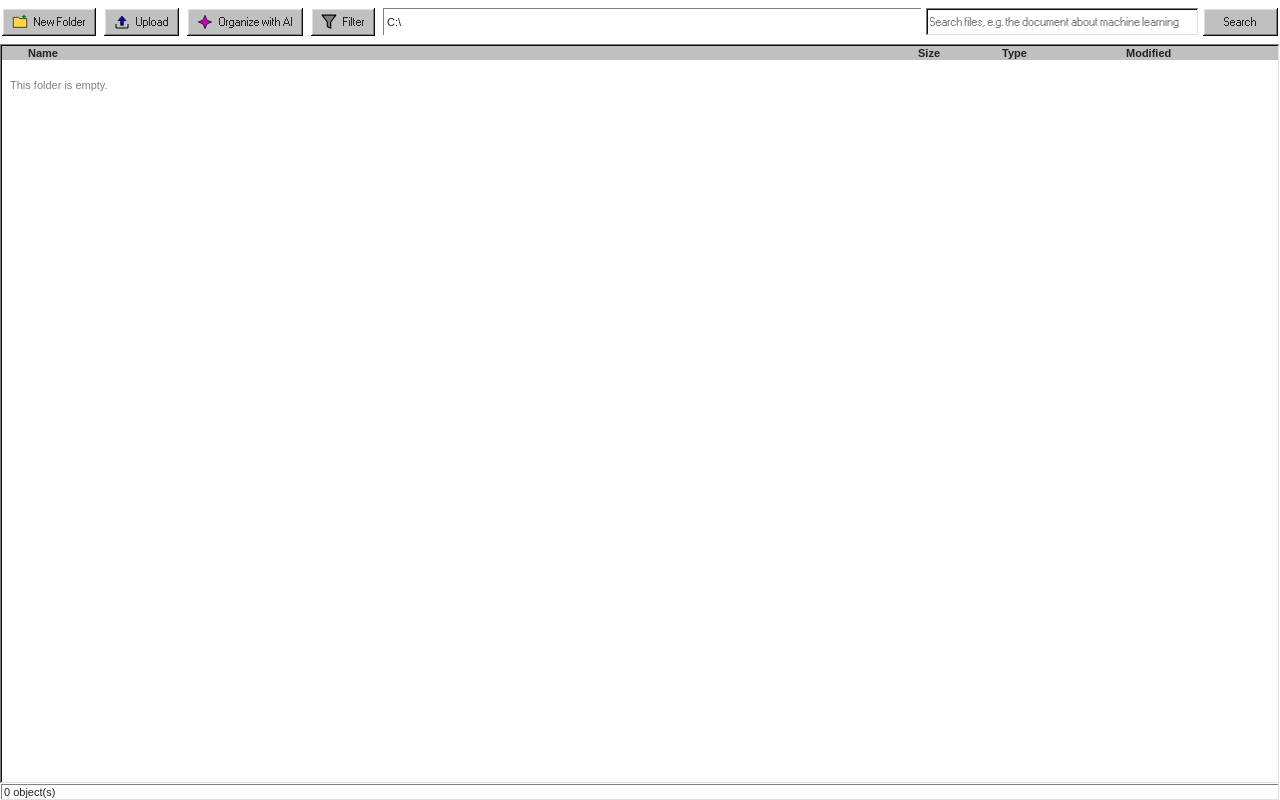
Scenario: Explorer › creates a folder through the New Folder dialog
The image size is (1280, 800).
expect the text "0 object(s)" is shown: met, box x1=1 y1=784 x2=1279 y2=799
Click the button "New Folder" at (49, 22), box x1=2 y1=8 x2=96 y2=36
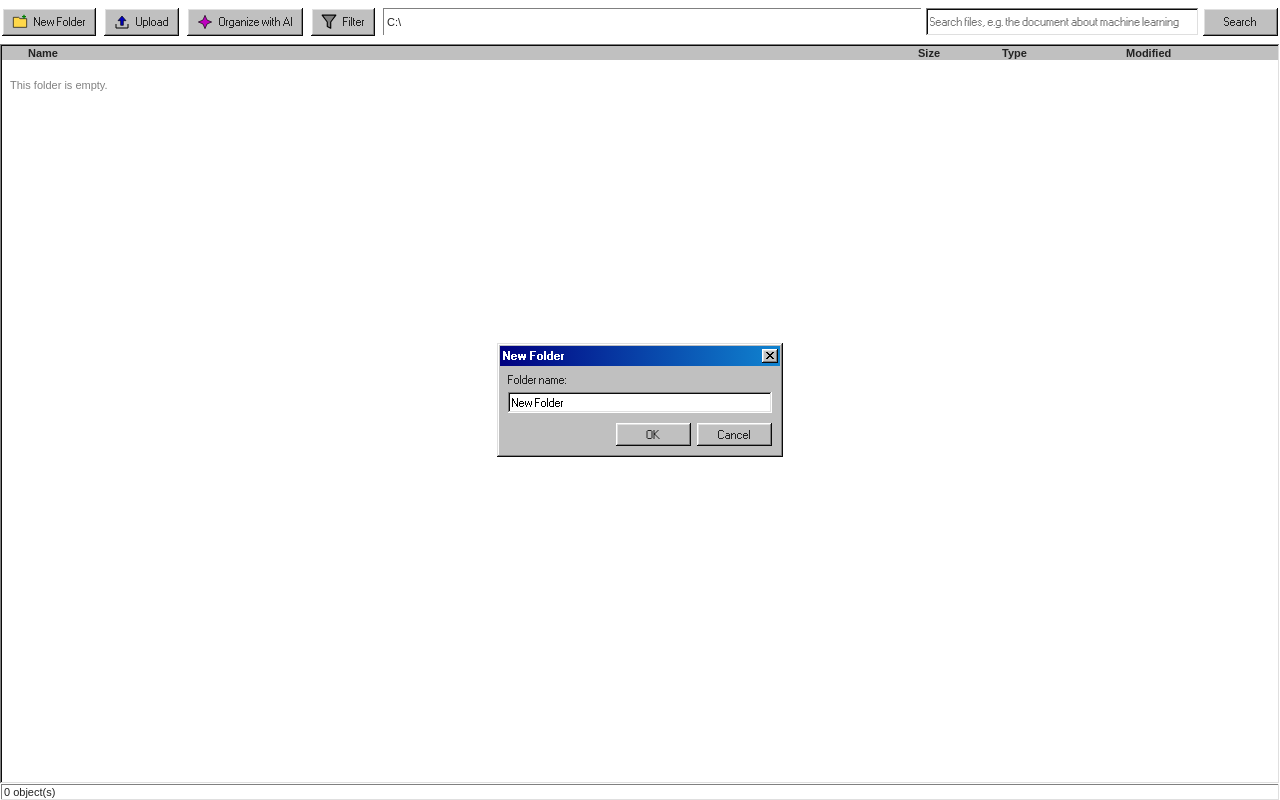
Replace the text in the field labelled "Folder name:" with "Made" at (640, 402), box x1=508 y1=392 x2=772 y2=413
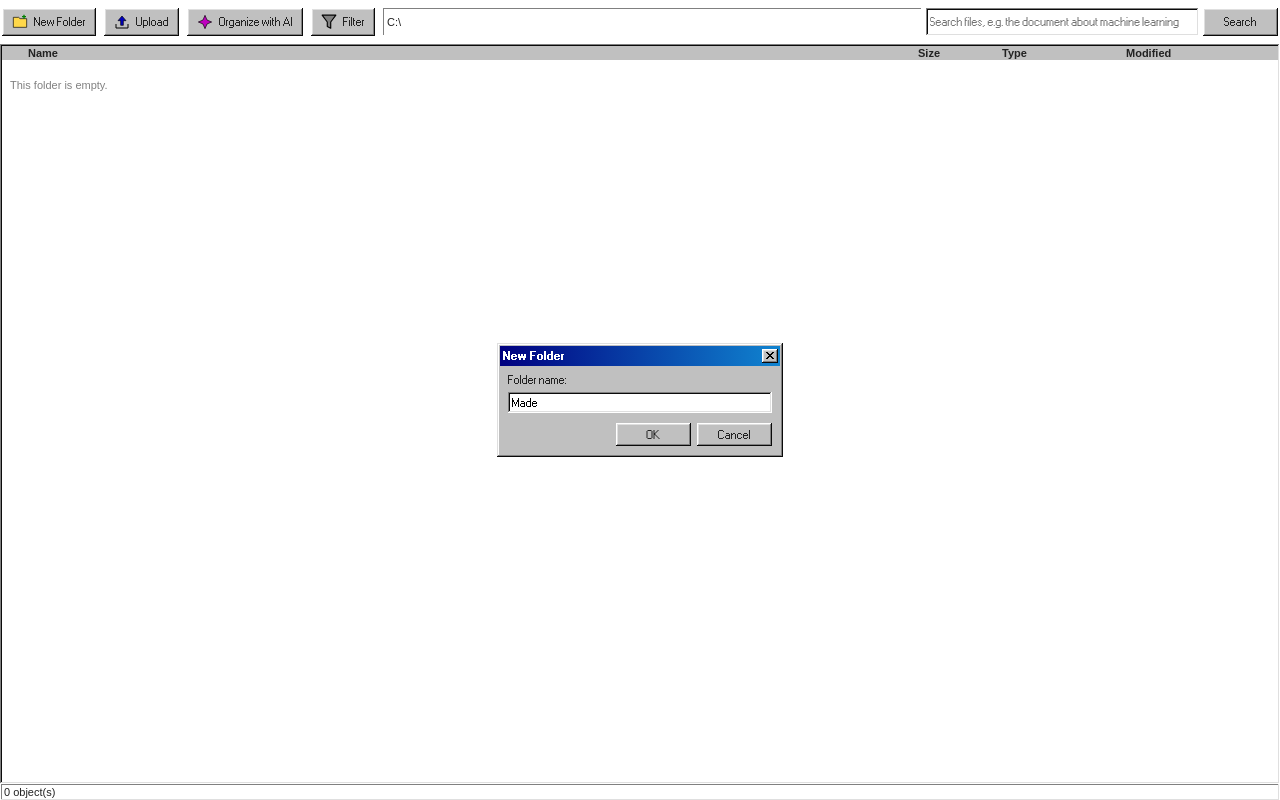
Click the button "OK" at (654, 434), box x1=616 y1=423 x2=691 y2=446
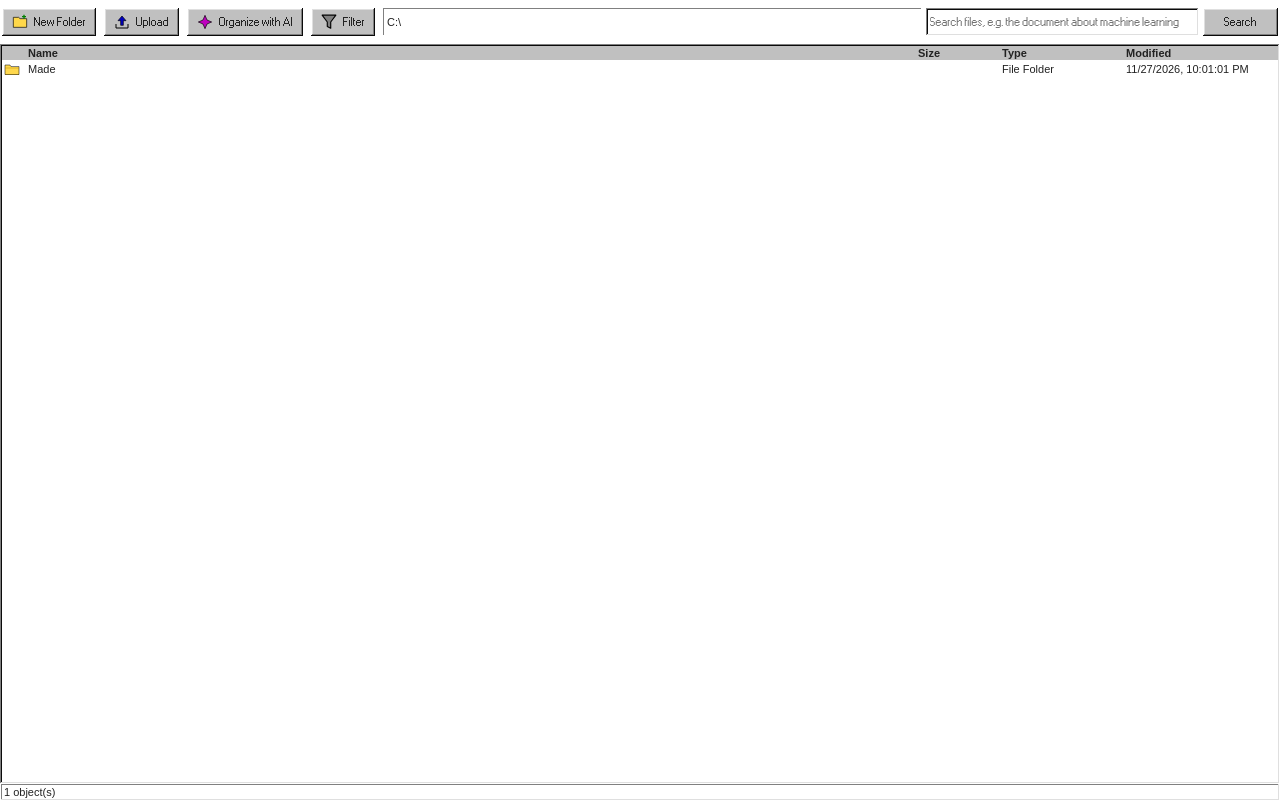
expect the option "Made File Folder 11/27/2026, 10:01:01 PM" is shown: met, box x1=2 y1=60 x2=1278 y2=78
